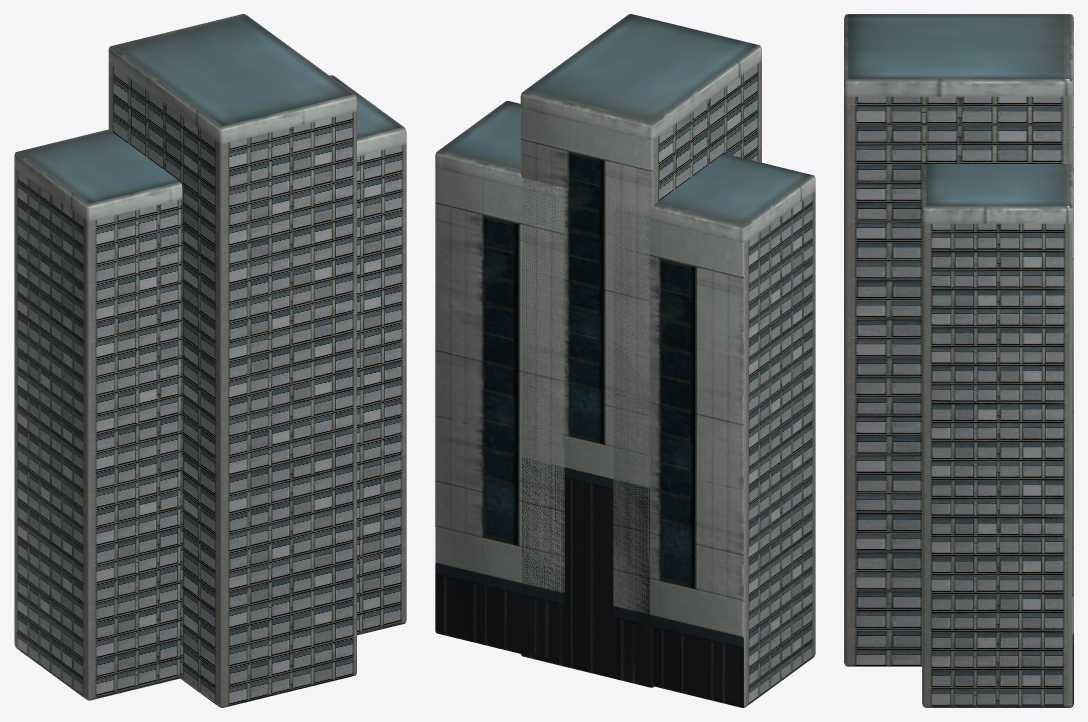
Rendered from 00_03_outside_building_k.dae.
3 views of the same model, side by side, from view 1: azimuth 30°, elevation 25°; view 2: azimuth 150°, elevation 25°; view 3: azimuth 270°, elevation 25° (orthographic). The views are drawn at different scales.
Parts seen in each view (by area): view 1: ChamferBox004; view 2: ChamferBox004; view 3: ChamferBox004.
Boxes of the visible parts, x1,y1,x2,y2 form: ChamferBox004: (14,14,406,707); ChamferBox004: (435,14,815,707); ChamferBox004: (844,14,1073,707).
Size of the model in its own units: 69.22 by 120 by 42.65.
